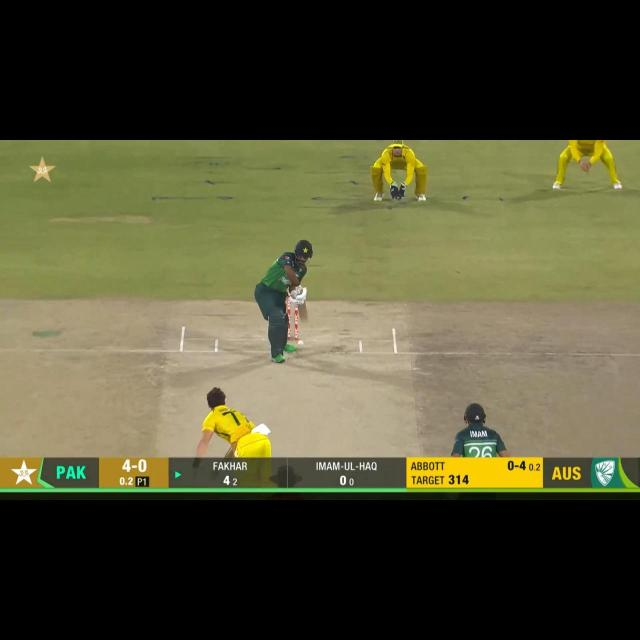bat: (295, 305, 310, 322)
toe: (301, 316, 310, 322)
